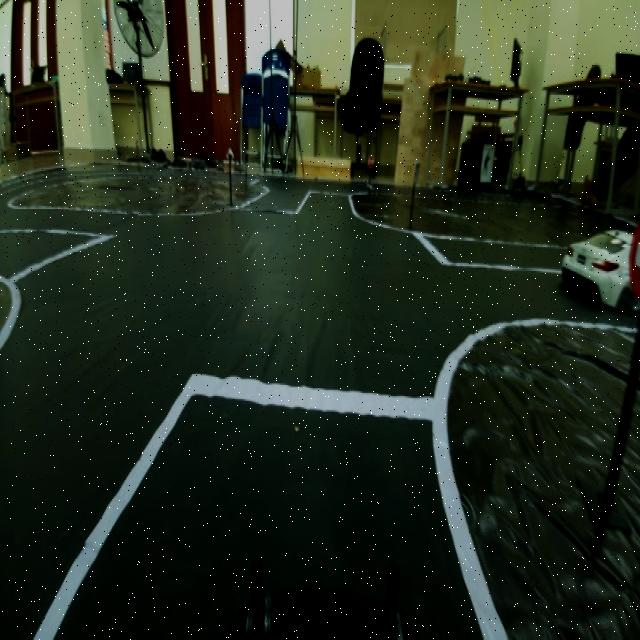car: (561, 224, 630, 307)
